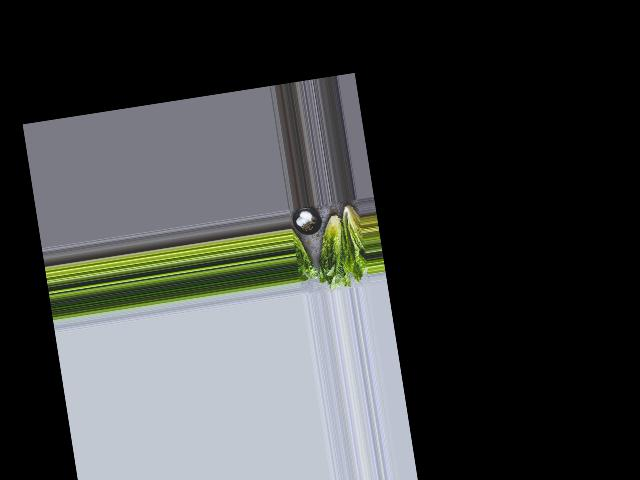lettuce: (337, 199, 368, 277)
